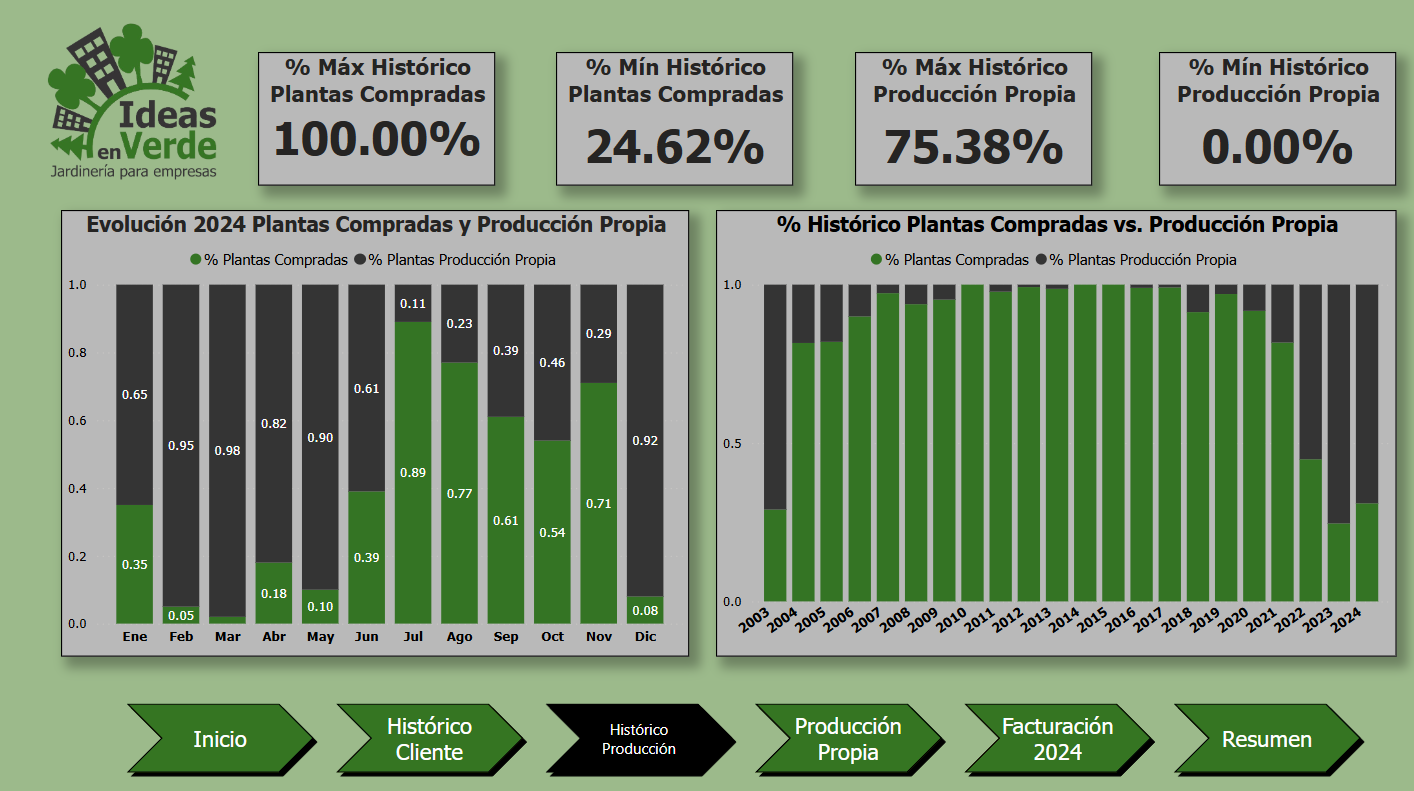

The dashboard page shown, as its layout file describes it:
{"tool":"powerbi","page":{"name":"Histórico Producción","canvas":[1280,720],"ordinal":2},"visuals":[{"type":"pageNavigator","box":[114.1,633.3,1122.2,72.7],"z":0},{"type":"image","box":[31.1,22.4,184.8,149.8],"z":1000},{"type":"columnChart","title":"Evolución 2024 Plantas Compradas y Producción Propia","fields":{"Category":["Table2.MesNombre"],"Y":["Avg(Table2.Compra)","Avg(Table2.Valor)"]},"box":[60.3,194.5,564.1,400.7],"z":2000},{"type":"columnChart","title":"% Histórico Plantas Compradas vs. Producción Propia","fields":{"Y":["Avg(Tabla Resumen 2003-2024.%Plantas_Compradas)","Avg(Tabla Resumen 2003-2024.%Produccion_Propia)"],"Category":["Tabla Resumen 2003-2024.AñoTexto"]},"box":[647.8,194.5,610.8,400.7],"z":3000},{"type":"card","title":"% Máx Histórico Plantas Compradas","fields":{"Values":["Max(Tabla Resumen 2003-2024.%Plantas_Compradas)"]},"box":[237.3,52.5,213,119.6],"z":4000},{"type":"card","title":"% Mín Histórico Plantas Compradas","fields":{"Values":["Min(Tabla Resumen 2003-2024.%Plantas_Compradas)"]},"box":[504.8,52.5,213,119.6],"z":5000},{"type":"card","title":"% Máx Histórico Producción Propia","fields":{"Values":["Max(Tabla Resumen 2003-2024.%Produccion_Propia)"]},"box":[773.3,52.5,213,119.6],"z":6000},{"type":"card","title":"% Mín Histórico Producción Propia","fields":{"Values":["Min(Tabla Resumen 2003-2024.%Produccion_Propia)"]},"box":[1045.6,52.5,213,119.6],"z":7000}]}

Visuals, with their boxes in screenshot pixels (x1, y1, x2, y2), scaled from the page's 1280x720 canvas onto the 1414x791 screenshot:
pageNavigator: (126, 696, 1366, 776)
image: (34, 25, 239, 189)
"Evolución 2024 Plantas Compradas y Producción Propia" columnChart: (67, 214, 690, 654)
"% Histórico Plantas Compradas vs. Producción Propia" columnChart: (716, 214, 1390, 654)
"% Máx Histórico Plantas Compradas" card: (262, 58, 497, 189)
"% Mín Histórico Plantas Compradas" card: (558, 58, 793, 189)
"% Máx Histórico Producción Propia" card: (854, 58, 1090, 189)
"% Mín Histórico Producción Propia" card: (1155, 58, 1390, 189)
